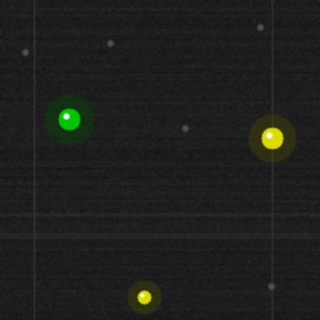green_normal: (56, 106, 82, 132)
yellow_warning: (259, 125, 285, 151), (135, 288, 153, 306)
